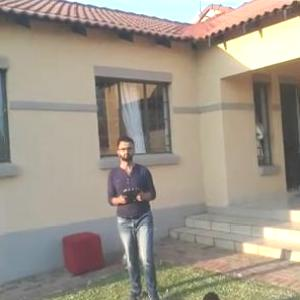follow: (100, 131, 162, 299)
